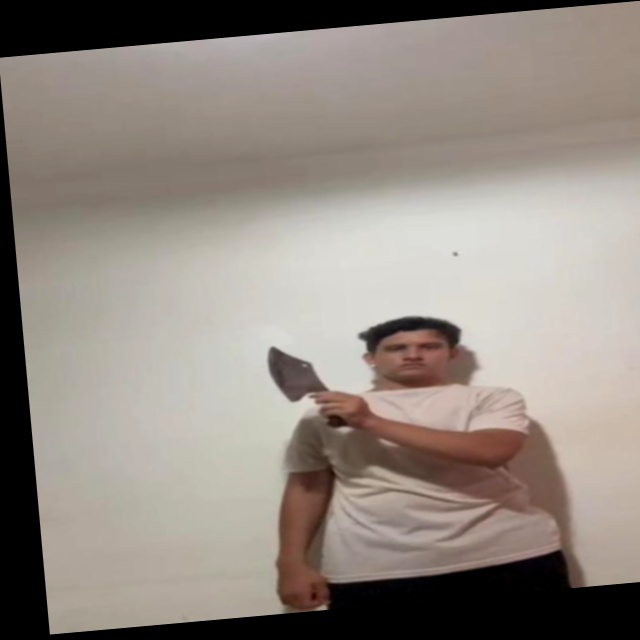Sharp-Object: (260, 341, 328, 404)
